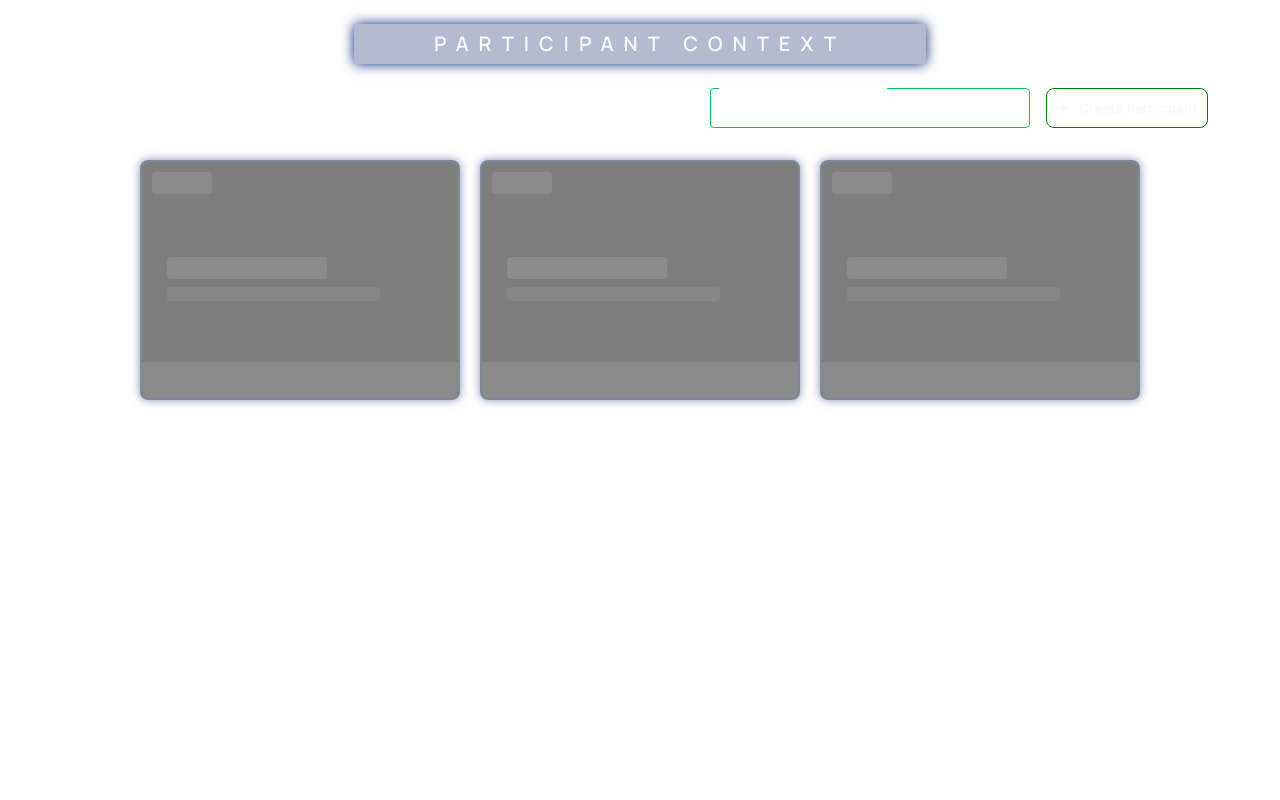
Test: ParticipantsPage › should open create dialog when "Create Participant" is clicked
The width and height of the screenshot is (1280, 800).
What coordinates should you click on to do the following:
click the button "Create Participant"
I would click on:
 (1127, 108)
Its box is x1=1046 y1=88 x2=1208 y2=128.
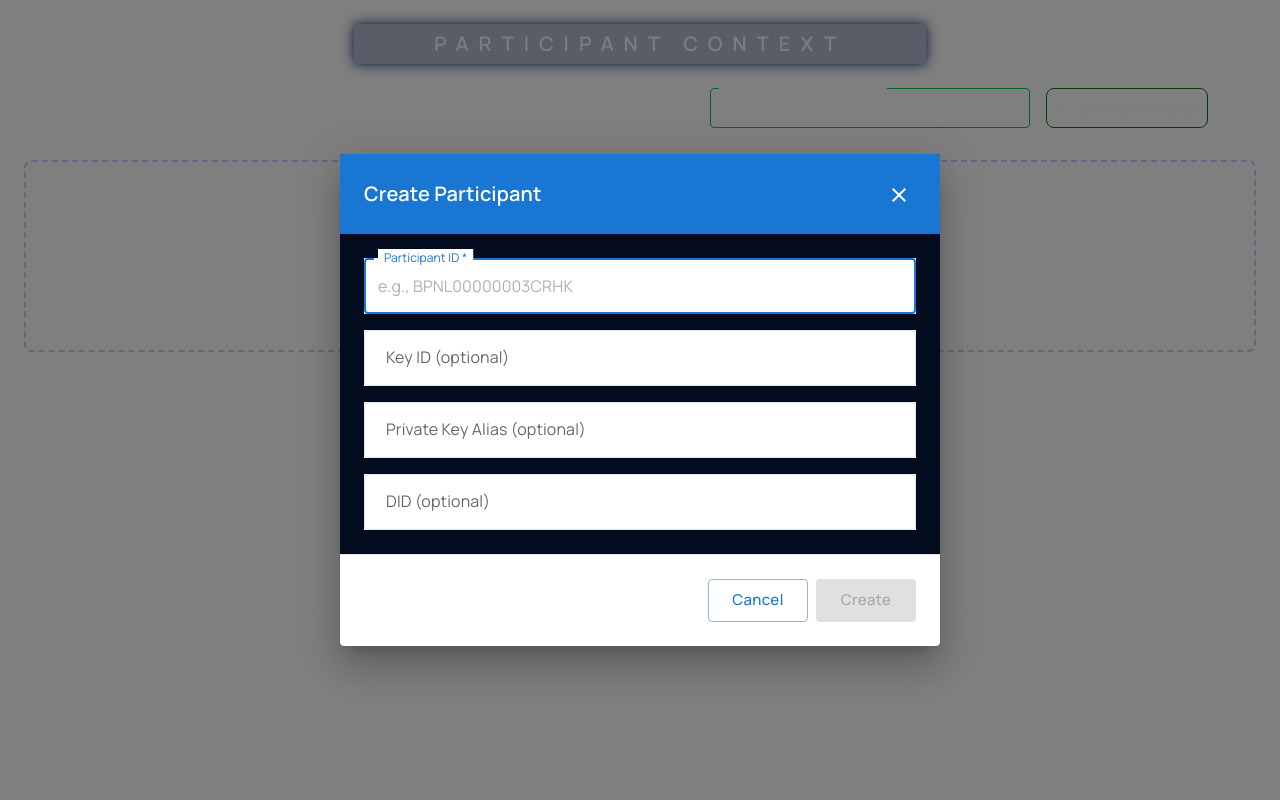
Now the field labelled "Participant ID *" is shown, box x1=364 y1=258 x2=916 y2=314
Now the field labelled "Key ID (optional)" is shown, box x1=364 y1=330 x2=916 y2=386
Now the field labelled "Private Key Alias (optional)" is shown, box x1=364 y1=402 x2=916 y2=458
